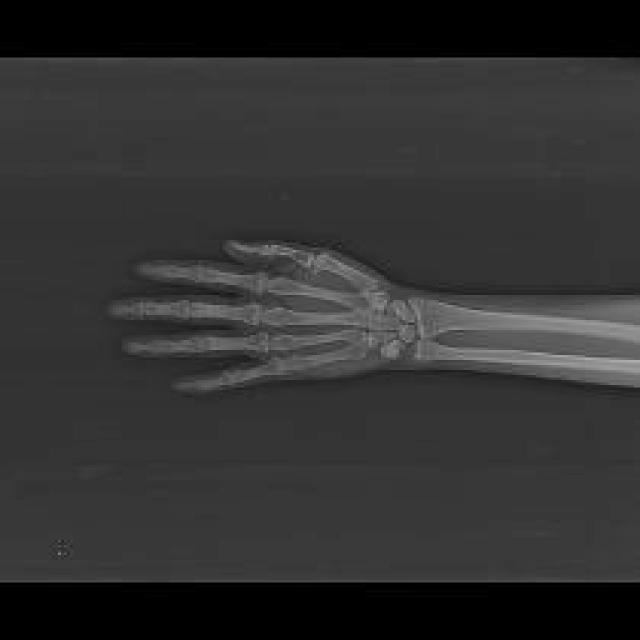normal: (111, 241, 640, 386)
